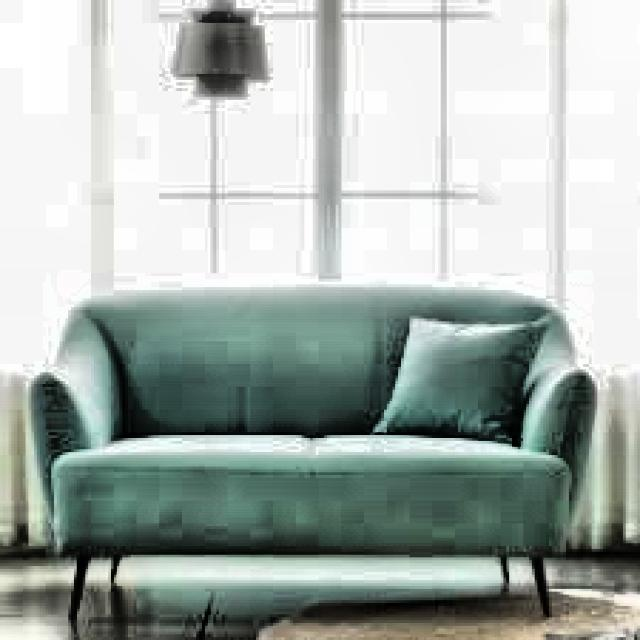sofa: (40, 287, 580, 600)
